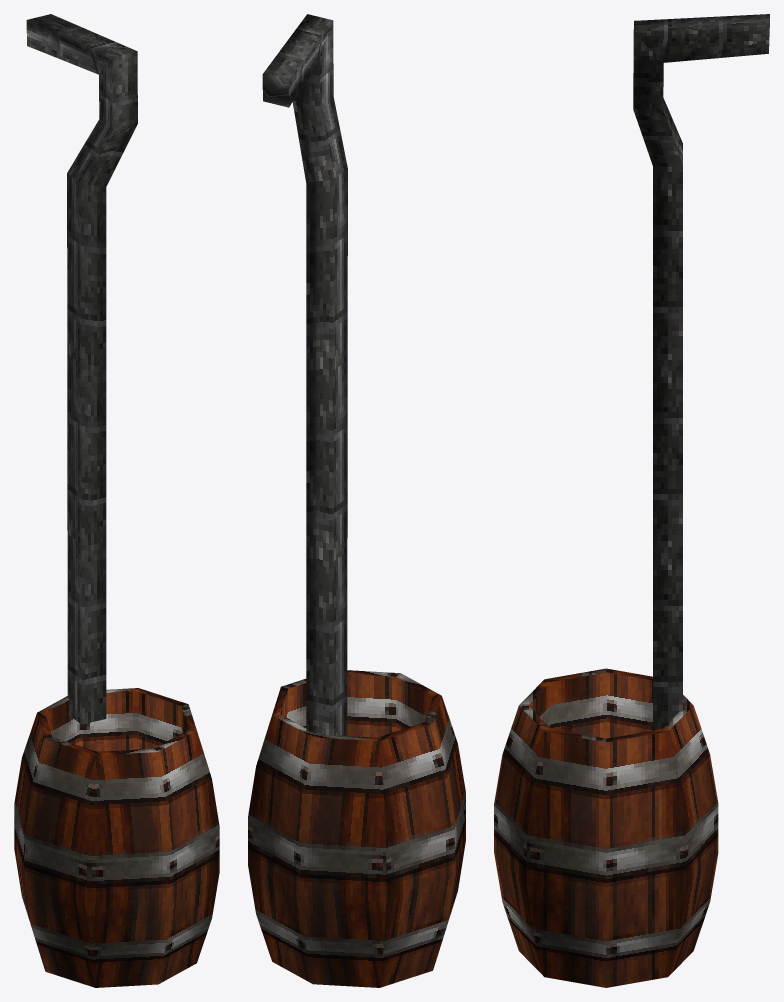
File: RAINBARREL_ACTORDEF.fbx
3 renders of one model, left to right at view 1: azimuth 30°, elevation 25°; view 2: azimuth 150°, elevation 25°; view 3: azimuth 270°, elevation 25°, orthographic. The views are drawn at different scales.
Visible parts, largest first — view 1: U3DMesh; view 2: U3DMesh; view 3: U3DMesh.
Boxes of the visible parts, x1,y1,x2,y2 form: U3DMesh: [14, 14, 219, 987]; U3DMesh: [248, 14, 465, 987]; U3DMesh: [494, 14, 769, 987].
Bounding box in the file's own units: 4.5 × 20.69 × 5.53.
